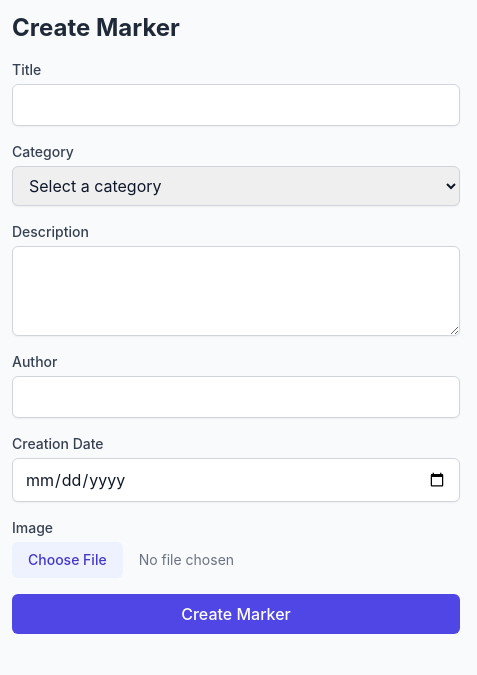
Test: MarkerForm › preserves user-entered values after validation failure
Type "My Art" into the field labelled "Title" at (236, 105), box [12, 84, 460, 126]
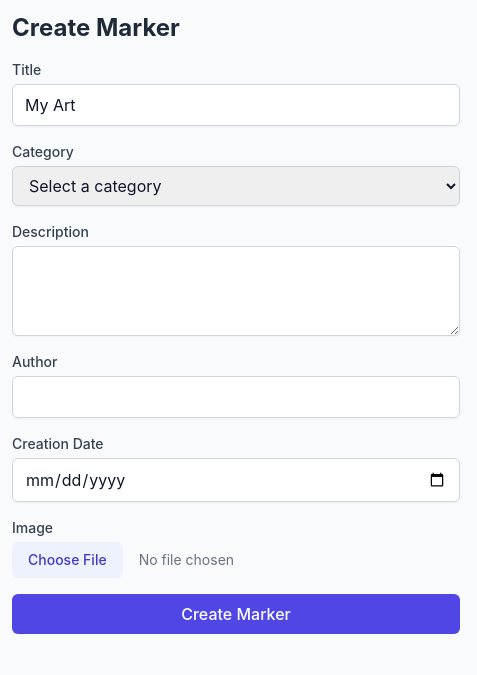
Type "Nice piece" into the text box labelled "Description" at (236, 291), box [12, 246, 460, 336]
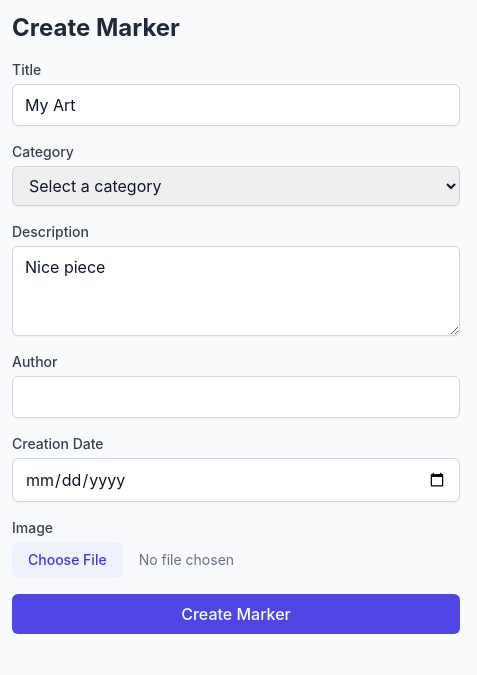
Click the button "Create Marker" at (236, 614), box [12, 594, 460, 634]
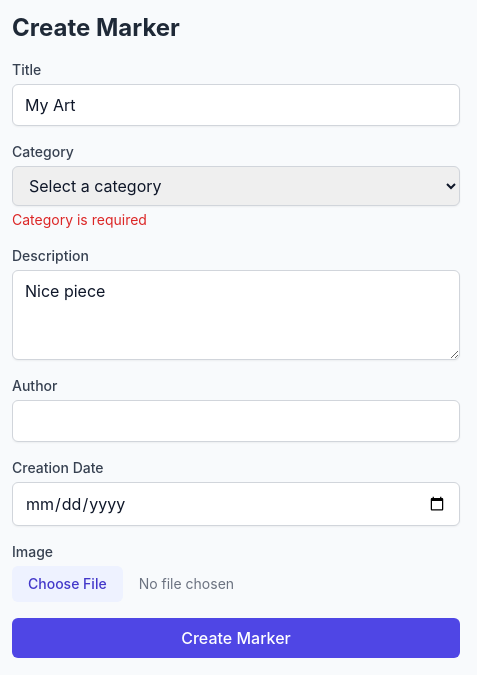
Expected: the text "Category is required" is shown, [12, 211, 147, 228]
